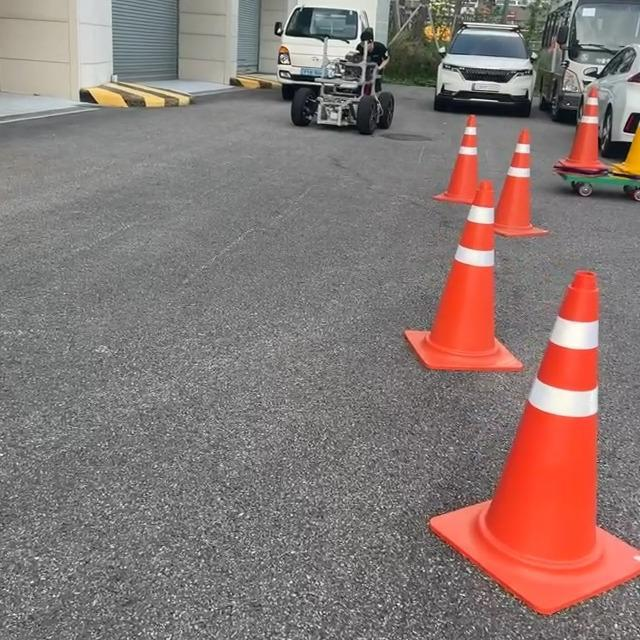fallen_object: (484, 250, 640, 584), (380, 165, 523, 384), (417, 116, 552, 247), (580, 62, 640, 227)
